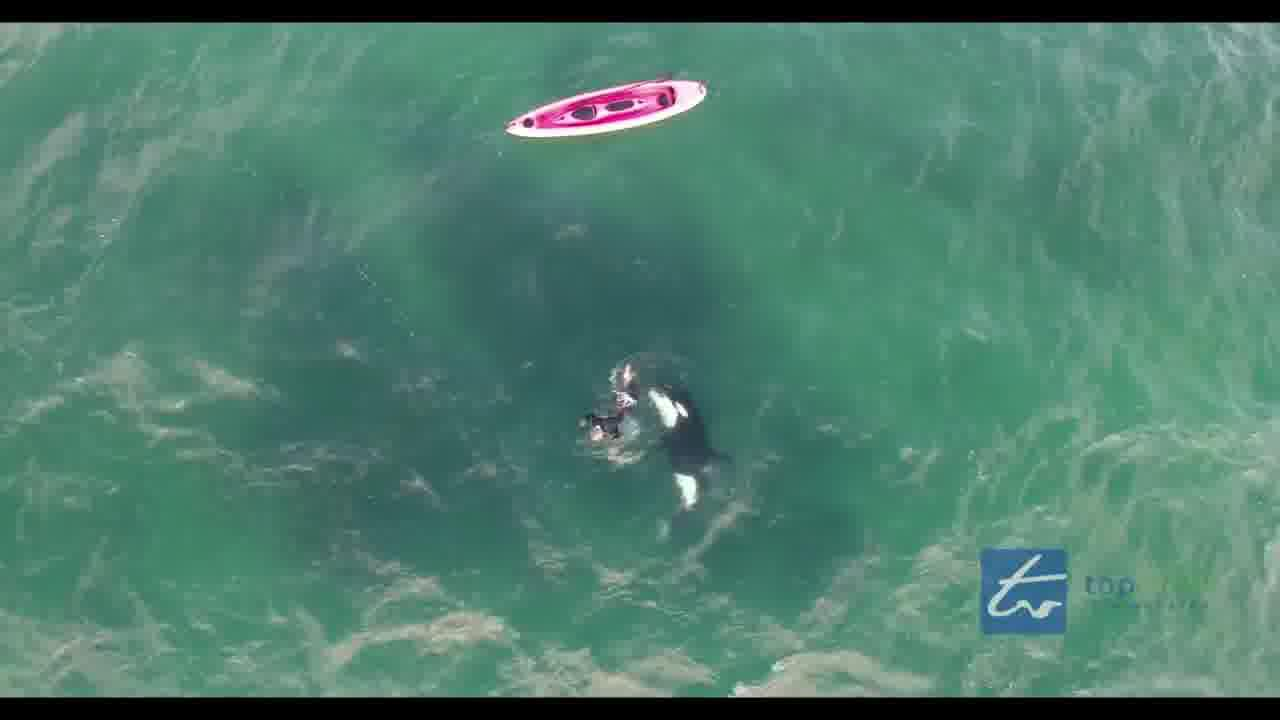human: (575, 359, 636, 448)
